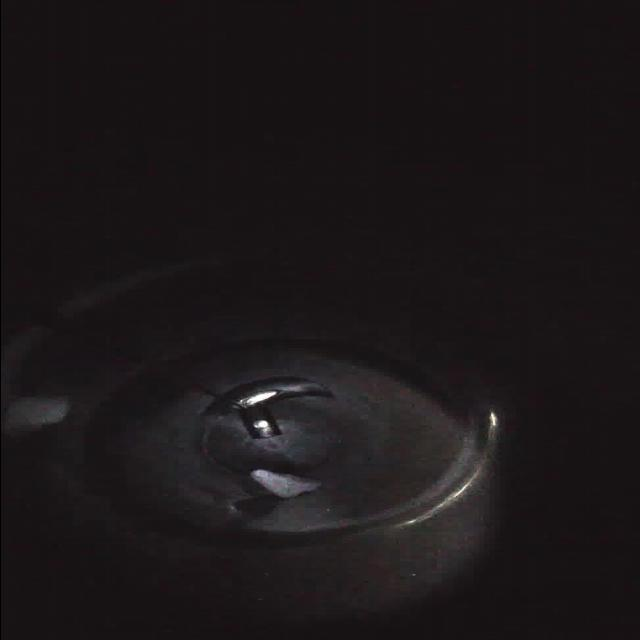impurity: (246, 464, 332, 504)
